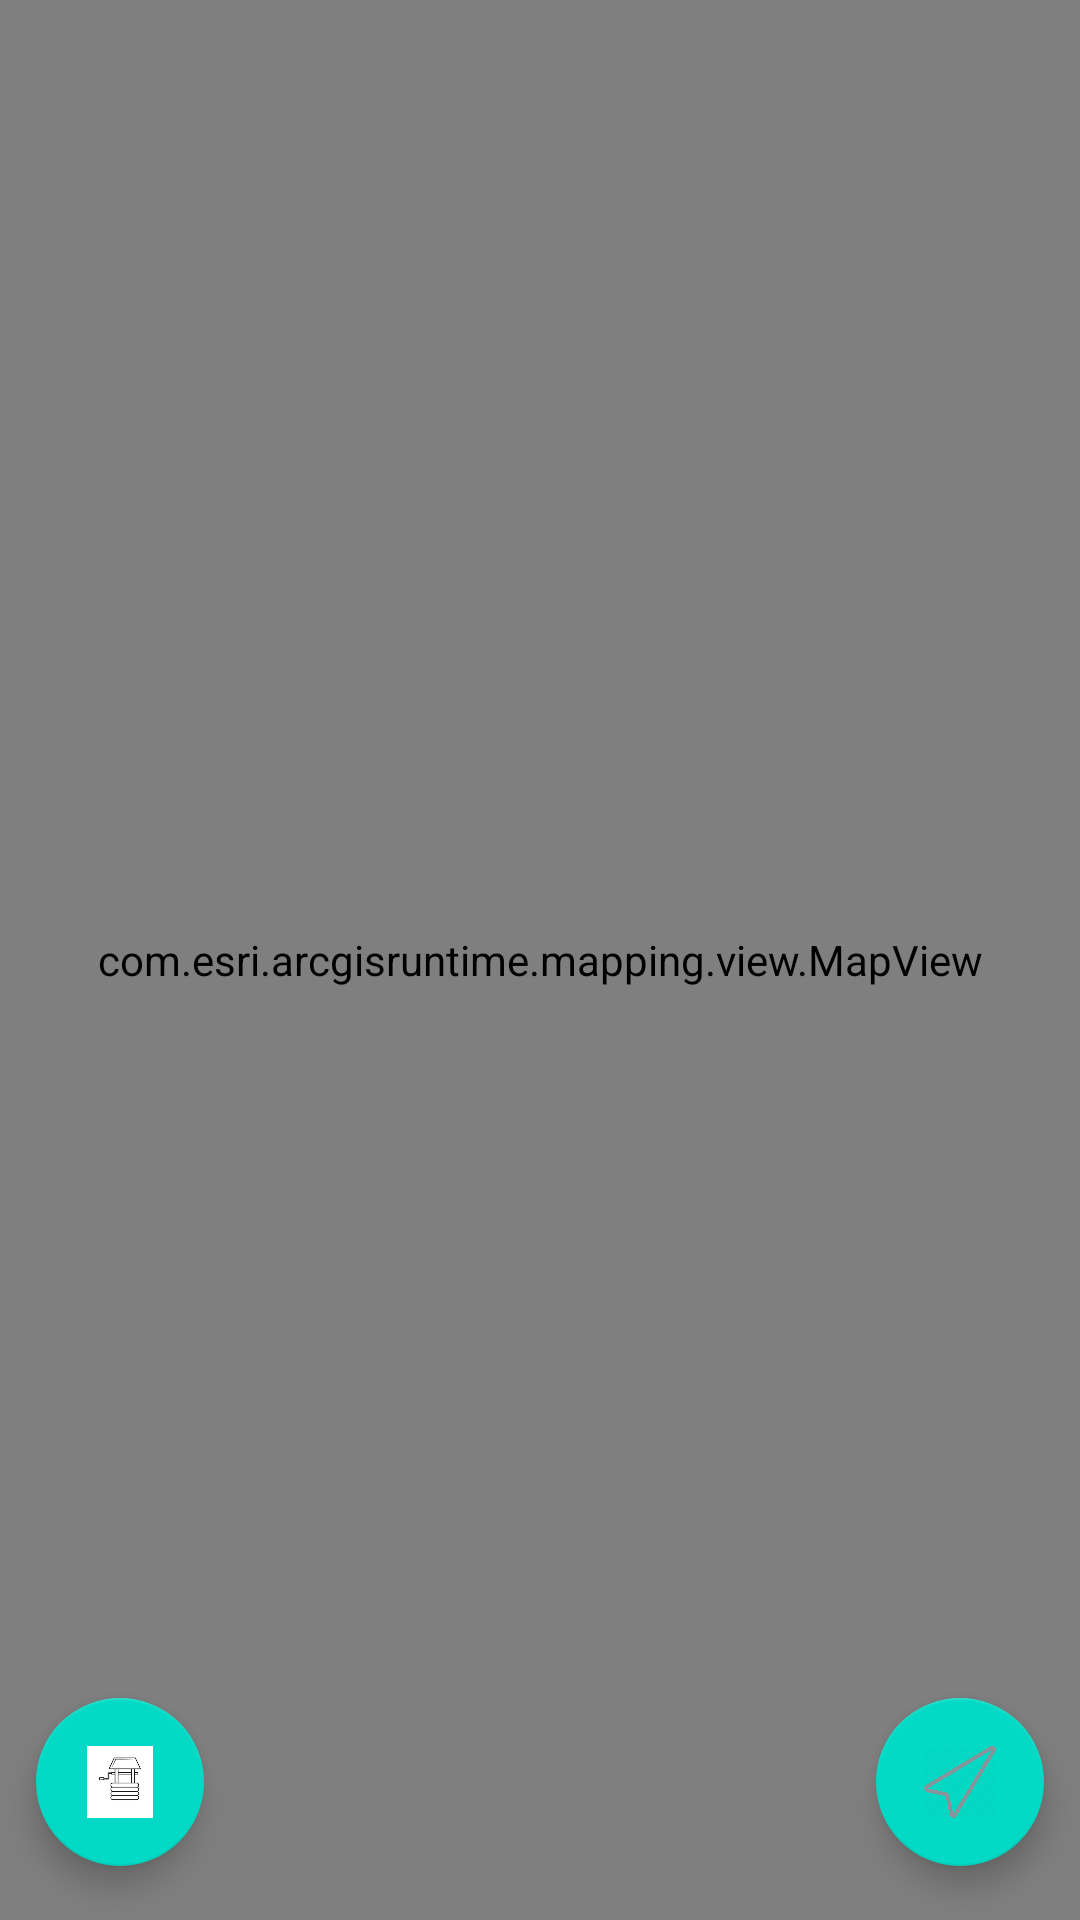

Screen size 1080px×1920px. Icon name, then its box in pixels as (x1, y1, x2, y2):
recenter: (876, 1698, 1044, 1867)
well: (36, 1698, 204, 1867)
